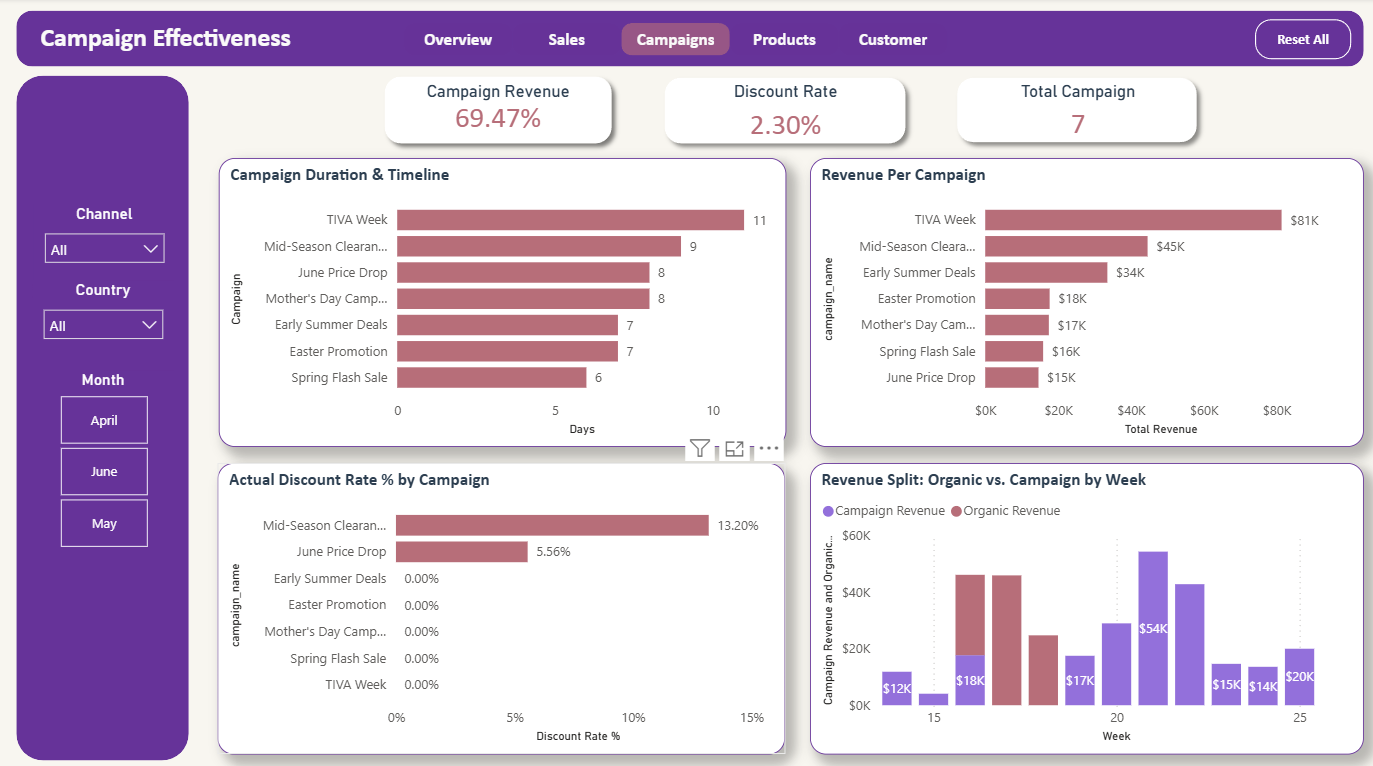

The dashboard page shown, as its layout file describes it:
{"tool":"powerbi","page":{"name":"Campaign Effectiveness","canvas":[1280,720],"ordinal":2},"visuals":[{"type":"shape","box":[15.1,11.6,1253.5,52.3],"z":0},{"type":"actionButton","box":[375.6,23.3,101.2,30.2],"z":1000},{"type":"actionButton","box":[476.7,23.3,101.2,30.2],"z":2000},{"type":"actionButton","box":[577.9,23.3,101.2,30.2],"z":3000},{"type":"actionButton","box":[679.1,23.3,101.2,30.2],"z":4000},{"type":"actionButton","box":[780.2,23.3,101.2,30.2],"z":5000},{"type":"textbox","box":[32.6,16.3,265.1,44.2],"z":6000},{"type":"shape","box":[15.1,72.1,160.5,637.2],"z":7000},{"type":"slicer","title":"Month","fields":{"Values":["Calendar.Month"]},"box":[30.2,346.7,131.4,170.9],"z":8000},{"type":"slicer","title":"Channel","fields":{"Values":["salesitems.channel_campaigns"]},"box":[31.4,192,131.4,70.9],"z":9000},{"type":"slicer","title":"Country","fields":{"Values":["sales.country"]},"box":[30.2,263,131.4,67.4],"z":10000},{"type":"actionButton","box":[1167.4,19.8,89.5,37.2],"z":11000},{"type":"shape","box":[348.8,63.8,229.1,80.2],"z":12000},{"type":"shape","box":[609.3,65,241.9,79.1],"z":13000},{"type":"shape","box":[881.4,65,240.7,77.9],"z":14000},{"type":"card","title":"Campaign Revenue","fields":{"Values":["_Measures.Campaign Revenue %"]},"box":[366.3,77.9,194.2,52.3],"z":15000},{"type":"card","title":"Total Campaign","fields":{"Values":["CountNonNull(campaigns.campaign_id)"]},"box":[882.6,77.7,240.7,64],"z":16000},{"type":"card","title":"Discount Rate","fields":{"Values":["_Measures.Discount Rate %"]},"box":[610.5,77.7,240.7,65.1],"z":17000},{"type":"clusteredBarChart","title":"Campaign Duration & Timeline","fields":{"Category":["campaigns.campaign_name"],"Y":["Sum(campaigns.Campaign_Duration)"]},"box":[203.5,148.8,527.9,268.6],"z":18000},{"type":"clusteredBarChart","title":"Revenue Per Campaign","fields":{"Y":["_Measures.Total Revenue"],"Category":["campaigns.campaign_name"]},"box":[753.5,148.8,515.1,268.6],"z":19000},{"type":"clusteredBarChart","title":"Actual Discount Rate % by Campaign","fields":{"Category":["campaigns.campaign_name"],"Y":["_Measures.Discount Rate %"]},"box":[202.3,432.6,527.9,270.9],"z":20000},{"type":"columnChart","title":"Revenue Split: Organic vs. Campaign by Week","fields":{"Category":["Calendar.Week"],"Y":["_Measures.Campaign Revenue","_Measures.Organic Revenue"]},"box":[753.5,432.6,515.1,270.9],"z":21000}]}

Visuals, with their boxes in screenshot pixels (x1, y1, x2, y2), scaled from the page's 1280x720 canvas onto the 1373x766 screenshot:
shape: x1=16 y1=12 x2=1361 y2=68
actionButton: x1=403 y1=25 x2=511 y2=57
actionButton: x1=511 y1=25 x2=620 y2=57
actionButton: x1=620 y1=25 x2=728 y2=57
actionButton: x1=728 y1=25 x2=837 y2=57
actionButton: x1=837 y1=25 x2=945 y2=57
textbox: x1=35 y1=17 x2=319 y2=64
shape: x1=16 y1=77 x2=188 y2=755
"Month" slicer: x1=32 y1=369 x2=173 y2=551
"Channel" slicer: x1=34 y1=204 x2=175 y2=280
"Country" slicer: x1=32 y1=280 x2=173 y2=352
actionButton: x1=1252 y1=21 x2=1348 y2=61
shape: x1=374 y1=68 x2=620 y2=153
shape: x1=654 y1=69 x2=913 y2=153
shape: x1=945 y1=69 x2=1204 y2=152
"Campaign Revenue" card: x1=393 y1=83 x2=601 y2=139
"Total Campaign" card: x1=947 y1=83 x2=1205 y2=151
"Discount Rate" card: x1=655 y1=83 x2=913 y2=152
"Campaign Duration & Timeline" clusteredBarChart: x1=218 y1=158 x2=785 y2=444
"Revenue Per Campaign" clusteredBarChart: x1=808 y1=158 x2=1361 y2=444
"Actual Discount Rate % by Campaign" clusteredBarChart: x1=217 y1=460 x2=783 y2=748
"Revenue Split: Organic vs. Campaign by Week" columnChart: x1=808 y1=460 x2=1361 y2=748
